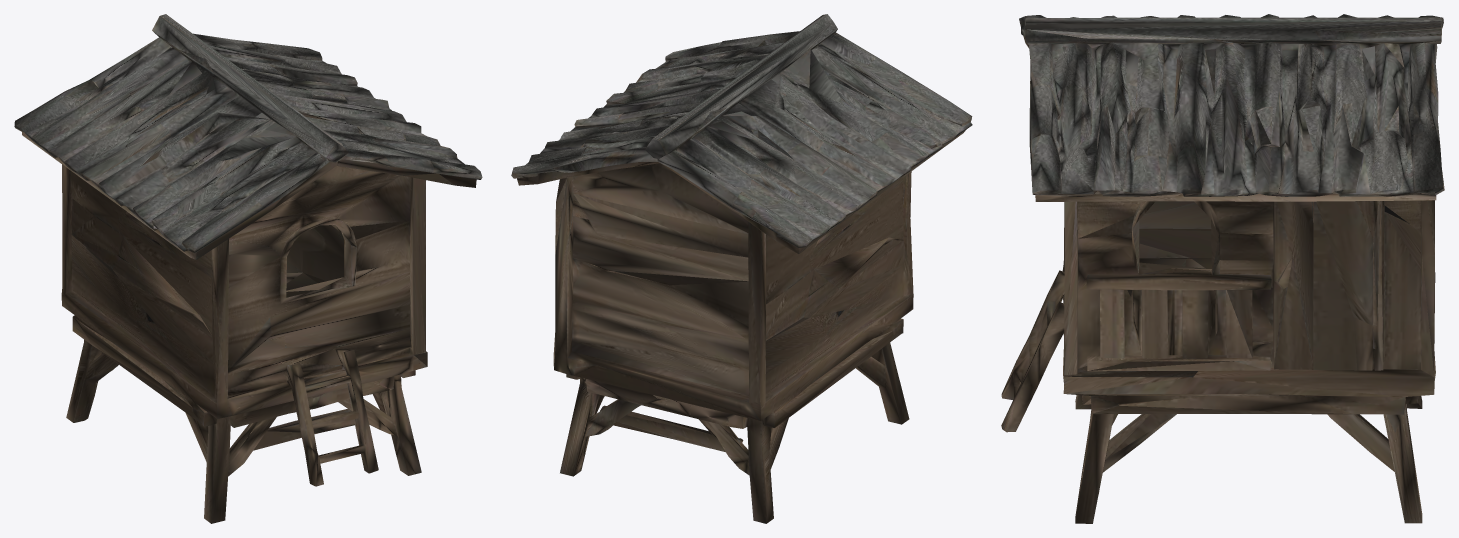
File: la_pigeon_loft.glb
3 views of the same model, side by side, from view 1: azimuth 30°, elevation 25°; view 2: azimuth 150°, elevation 25°; view 3: azimuth 270°, elevation 25° (orthographic). The views are drawn at different scales.
Parts seen in each view (by area): view 1: la_pigeon_loft; view 2: la_pigeon_loft; view 3: la_pigeon_loft.
Part boxes in pixels (x1,y1,x2,y2): la_pigeon_loft: [14, 14, 482, 523]; la_pigeon_loft: [511, 14, 972, 523]; la_pigeon_loft: [1001, 14, 1444, 523].
Size of the model in its own units: 1.88 by 2.2 by 1.99.
1 material, 1 textured.
